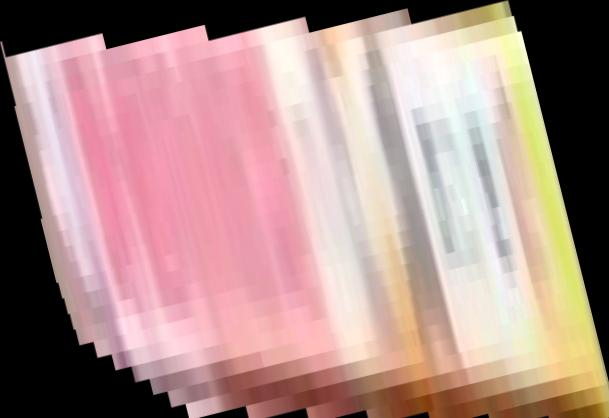flat: (1, 1, 609, 418)
